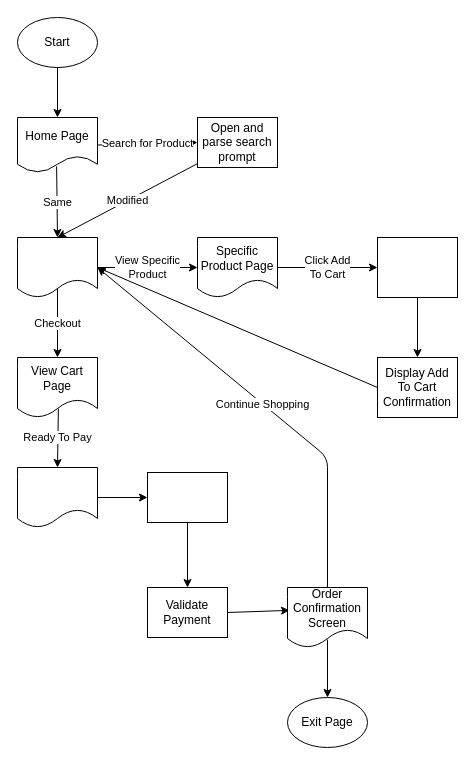
Image size: 475x765. Some labels were removed from this diagram. Each missing label, with the centre of its shape:
"Add Item To Cart" goes at [417,267].
"Payment Page" goes at [57,497].
"Product List Page" goes at [57,267].
"Receive and parse payment info" goes at [187,497].
